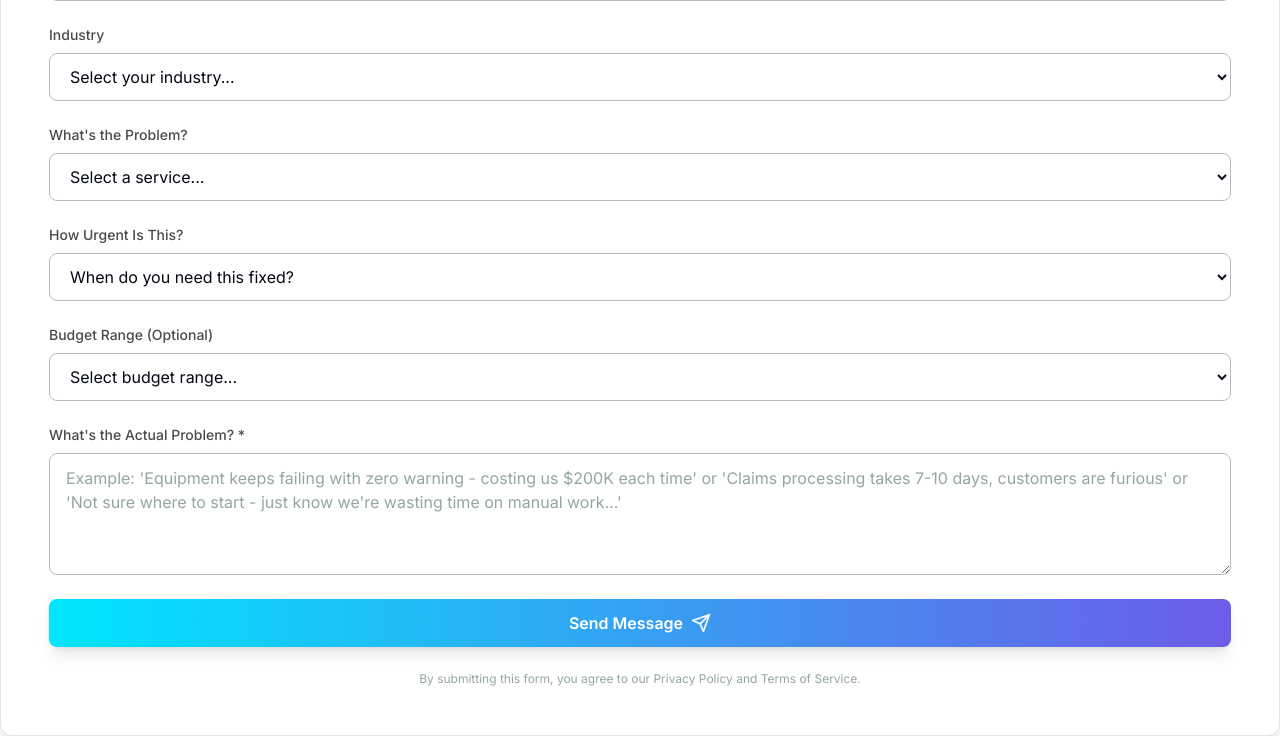
it: ContactForm › validates message minimum length
The image size is (1280, 736).
(page scrolled)
Replace the text in the text box labelled "What's the Actual Problem? *" with "Short". click: (640, 514)
box: [49,453,1231,575]
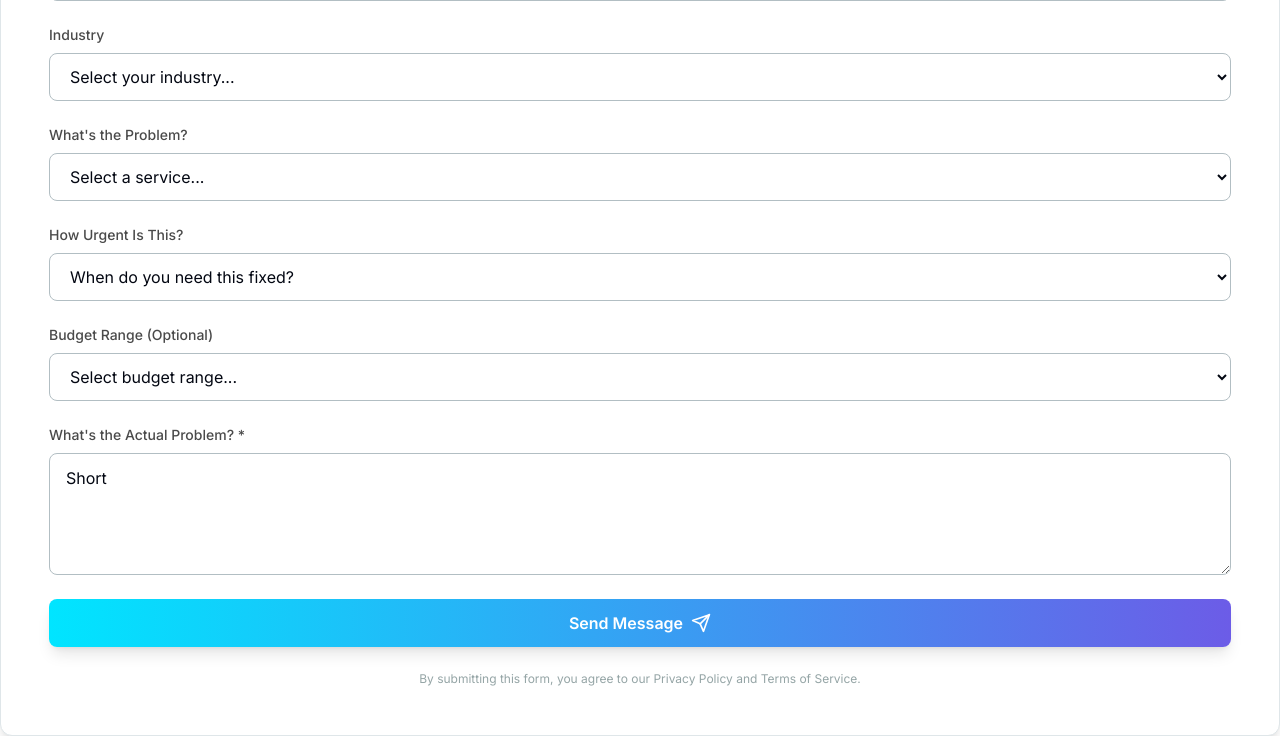
Click the button "Send Message". click: (640, 623)
box: [49,599,1231,647]
(page scrolled)
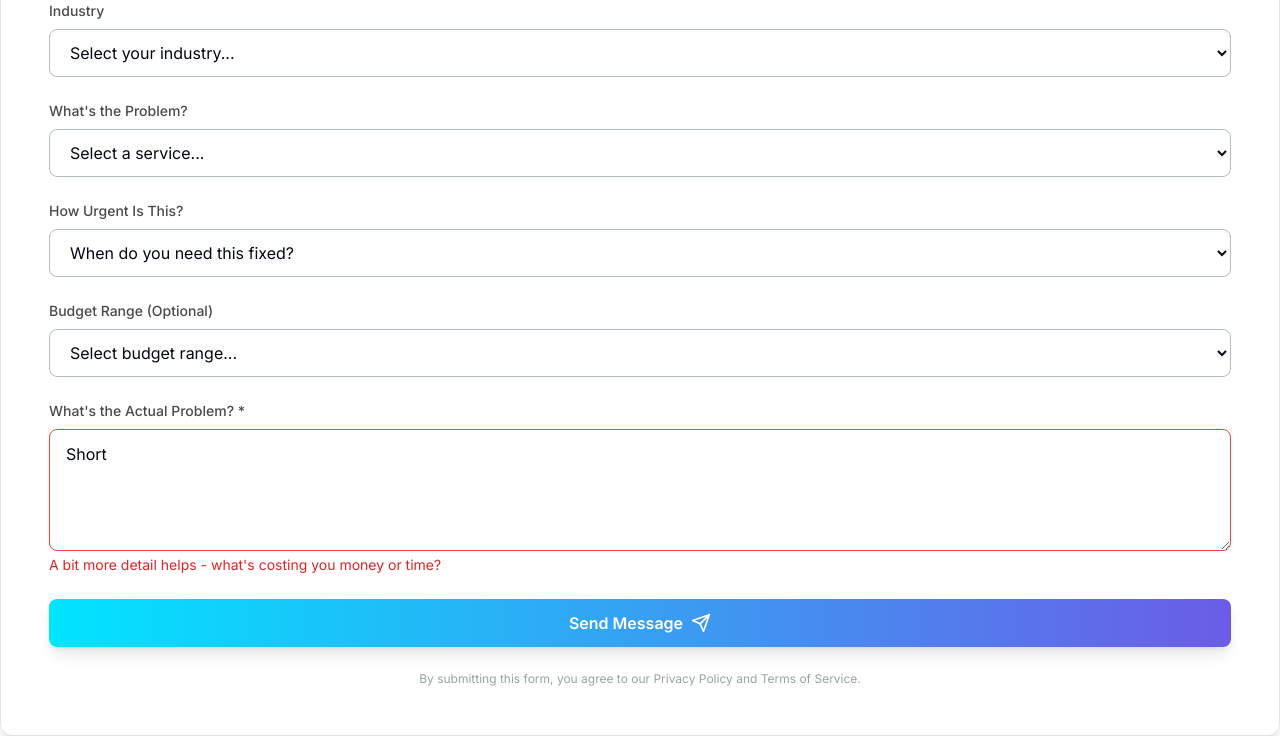
Now the text "A bit more detail helps - what's costing you money or time?" is shown, box [49,556,441,573]
